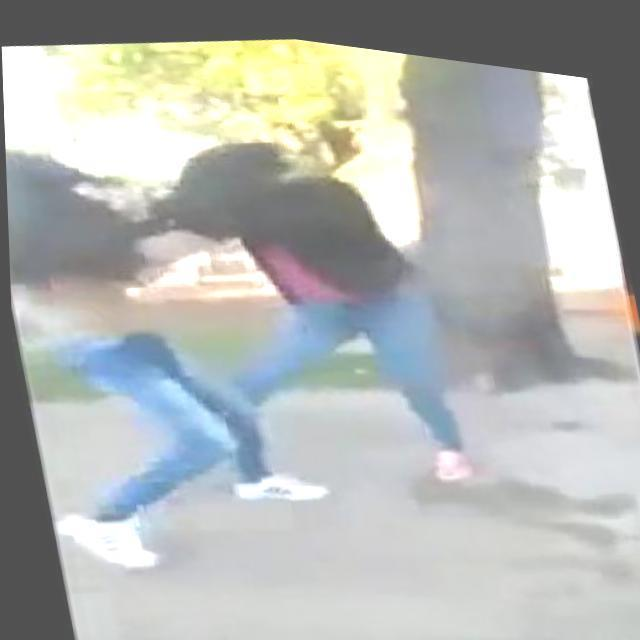fight: (2, 79, 493, 593)
